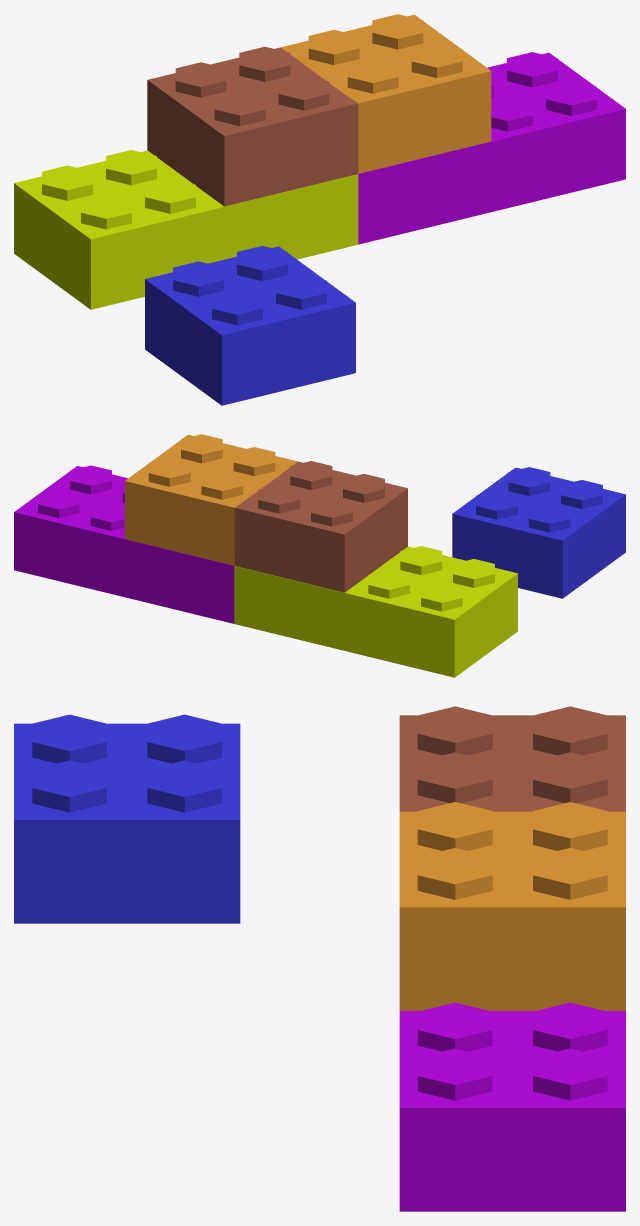
File: Lego.fbx
3 renders of one model, top to bottom at view 1: azimuth 30°, elevation 25°; view 2: azimuth 150°, elevation 25°; view 3: azimuth 270°, elevation 25°, orthographic. The views are drawn at different scales.
Visible parts, largest first — view 1: pCylinder58, pCylinder60, pCylinder61, pCylinder56, pCylinder62; view 2: pCylinder58, pCylinder60, pCylinder61, pCylinder56, pCylinder62; view 3: pCylinder56, pCylinder60, pCylinder62, pCylinder61.
Part boxes in pixels (bbox=[...]): pCylinder58: bbox=[14, 150, 358, 309]; pCylinder60: bbox=[358, 52, 625, 244]; pCylinder61: bbox=[147, 46, 358, 206]; pCylinder56: bbox=[145, 246, 355, 405]; pCylinder62: bbox=[281, 14, 491, 173]; pCylinder58: bbox=[234, 546, 517, 677]; pCylinder60: bbox=[14, 465, 234, 623]; pCylinder61: bbox=[234, 461, 407, 592]; pCylinder56: bbox=[452, 467, 625, 598]; pCylinder62: bbox=[124, 434, 297, 565]; pCylinder56: bbox=[14, 714, 240, 923]; pCylinder60: bbox=[399, 1002, 625, 1211]; pCylinder62: bbox=[399, 802, 625, 1010]; pCylinder61: bbox=[399, 706, 625, 811].
Bounding box in the file's own units: 4.18 × 1.13 × 2.81.
